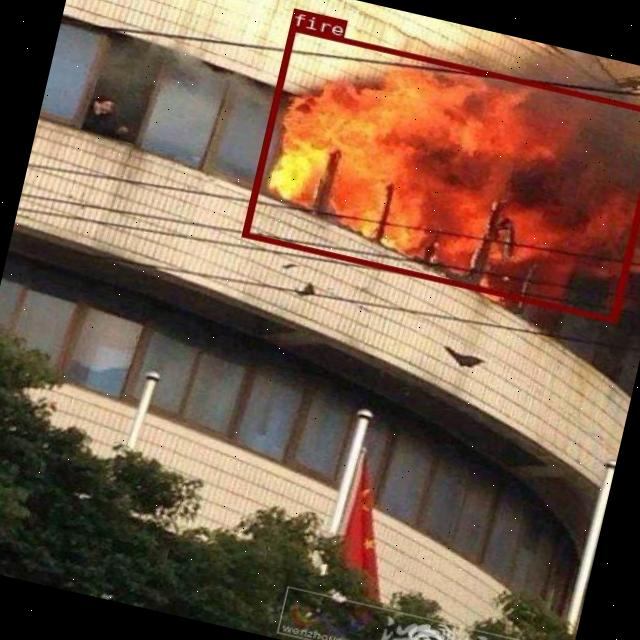fire: (241, 24, 640, 321)
